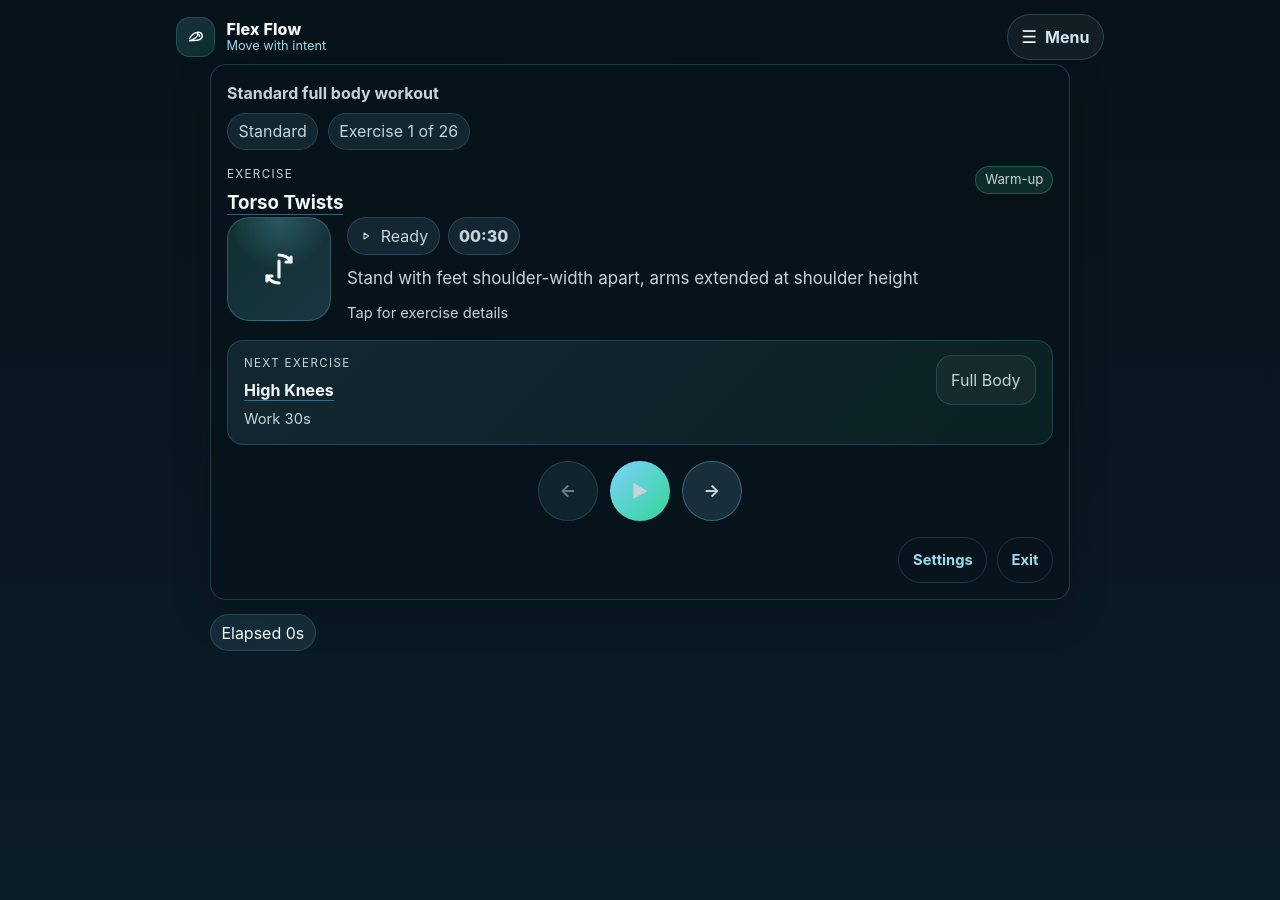
WorkoutPlayerScreen › keeps the workout player minimal and opens preferences from the settings button
Expected: the button named "go to previous step" is shown, [538,461,598,521]
Expected: the button named "start workout" is shown, [610,461,670,521]
Click the button "Settings" at (943, 560), box [898,537,987,584]
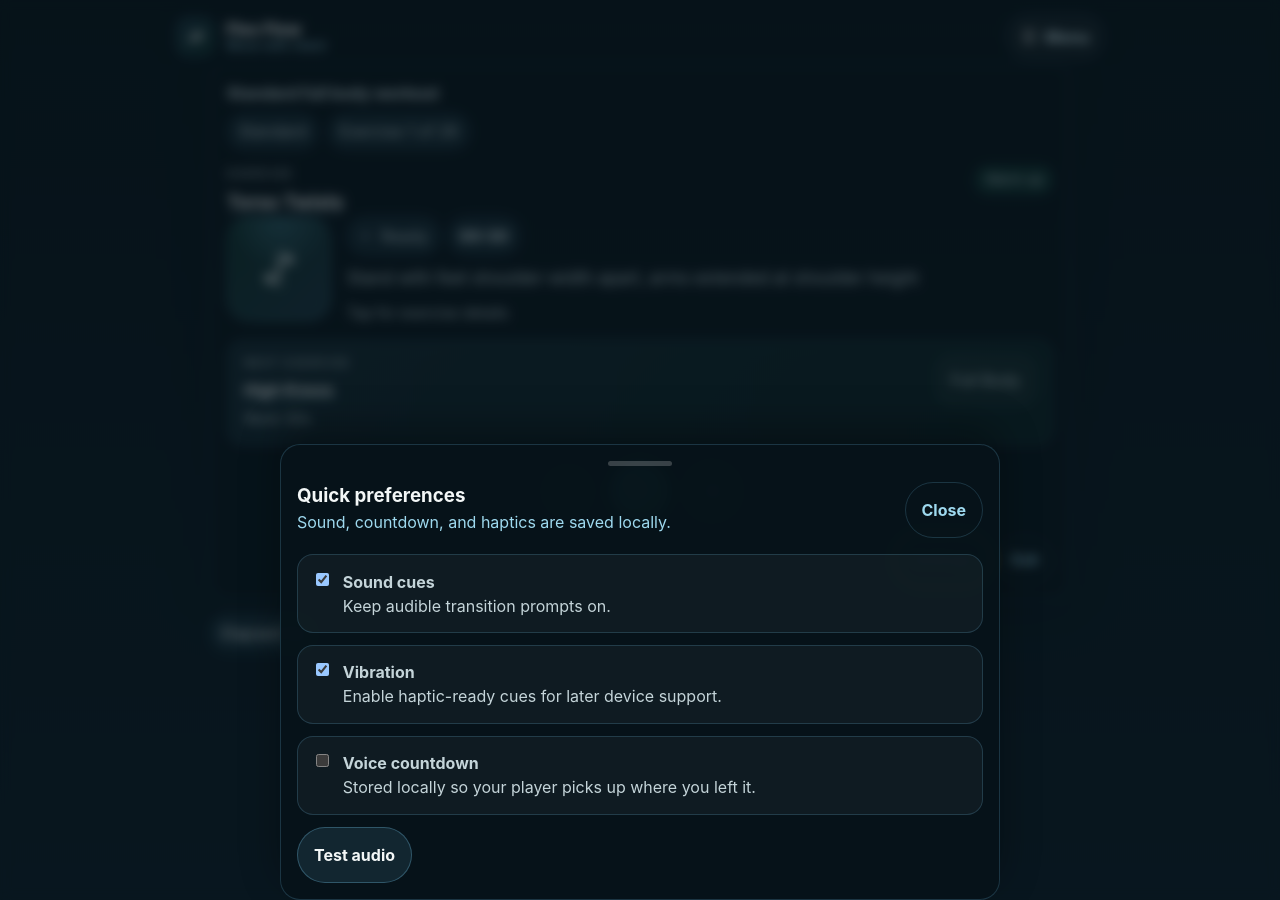
Now the dialog "Quick preferences" is shown
Now the checkbox labelled "Sound cues" is checked, box [316,573,329,586]
Now the button "Test audio" is shown, box [297,827,412,883]
